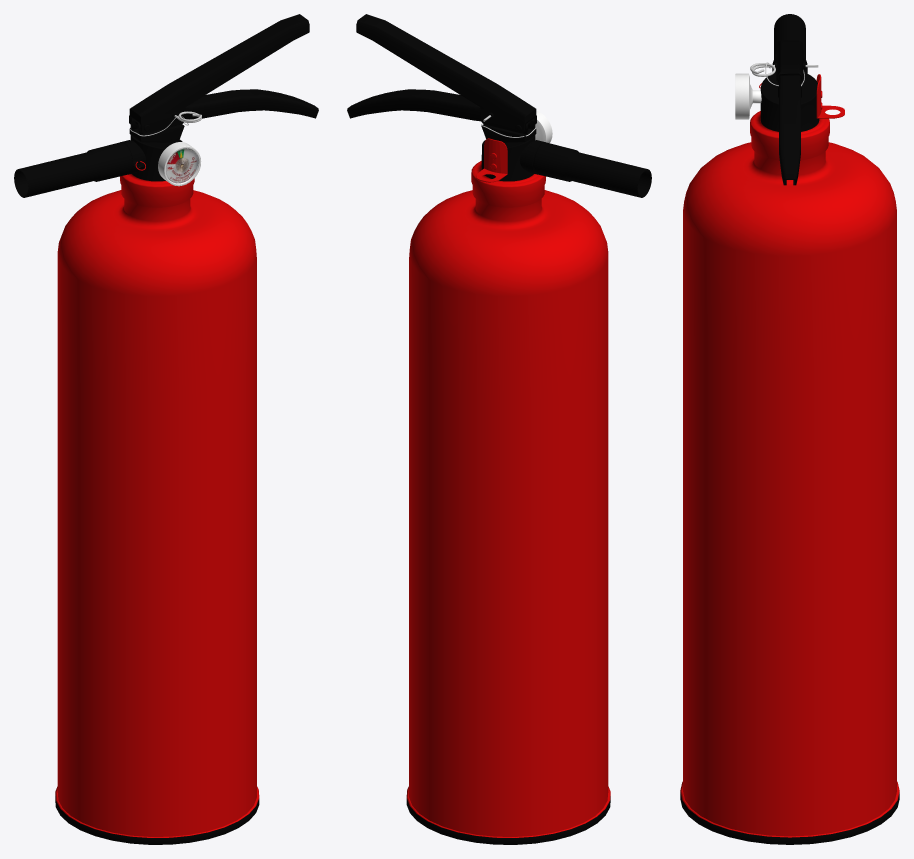
Rendered from Extinguisher Fire.fbx.
3 renders of one model, left to right at view 1: azimuth 30°, elevation 25°; view 2: azimuth 150°, elevation 25°; view 3: azimuth 270°, elevation 25°, orthographic. The views are drawn at different scales.
Visible parts, largest first — view 1: FE, FE.003, FE.005; view 2: FE, FE.003; view 3: FE, FE.003.
Part boxes in pixels (x1,y1,x2,y2): FE: (14, 89, 318, 844); FE.003: (129, 14, 309, 133); FE.005: (166, 148, 198, 183); FE: (347, 89, 651, 844); FE.003: (356, 14, 536, 133); FE: (680, 14, 899, 844); FE.003: (776, 40, 803, 83).
Size of the model in its own units: 27.46 by 66.6 by 16.49.
5 materials, 1 textured.
